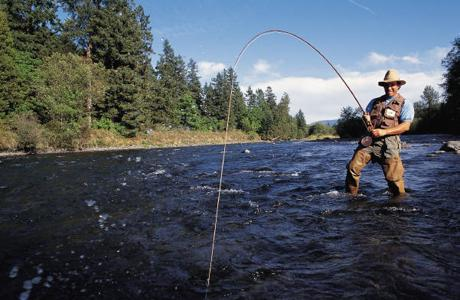person: (346, 68, 416, 197)
